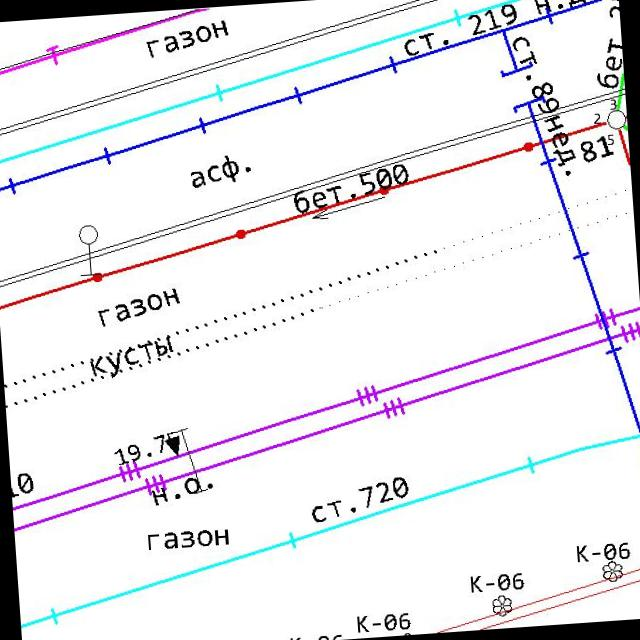asphalt: (188, 152, 254, 190)
bushes: (600, 558, 624, 583), (491, 592, 514, 618)
mark: (163, 433, 183, 458)
sing: (74, 222, 102, 278)
well: (602, 107, 628, 132)
